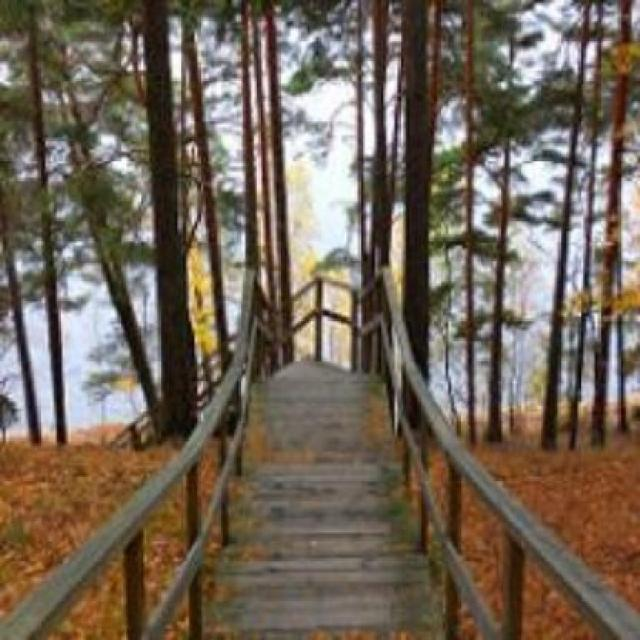stair: (186, 361, 444, 640)
